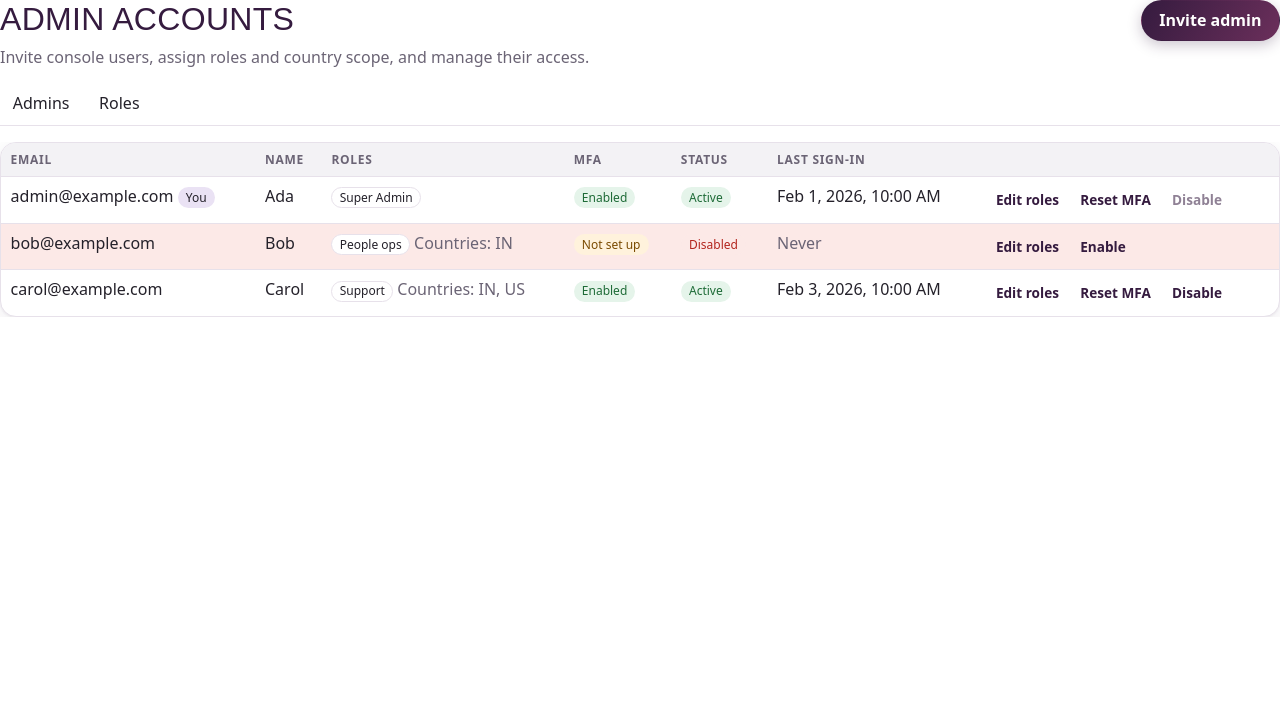
Test case: AdminsPage › warns when editing your own roles
The image size is (1280, 720).
Click the button "Edit roles" in the row of "admin@example.com": (1027, 200) [985,185,1070,215]
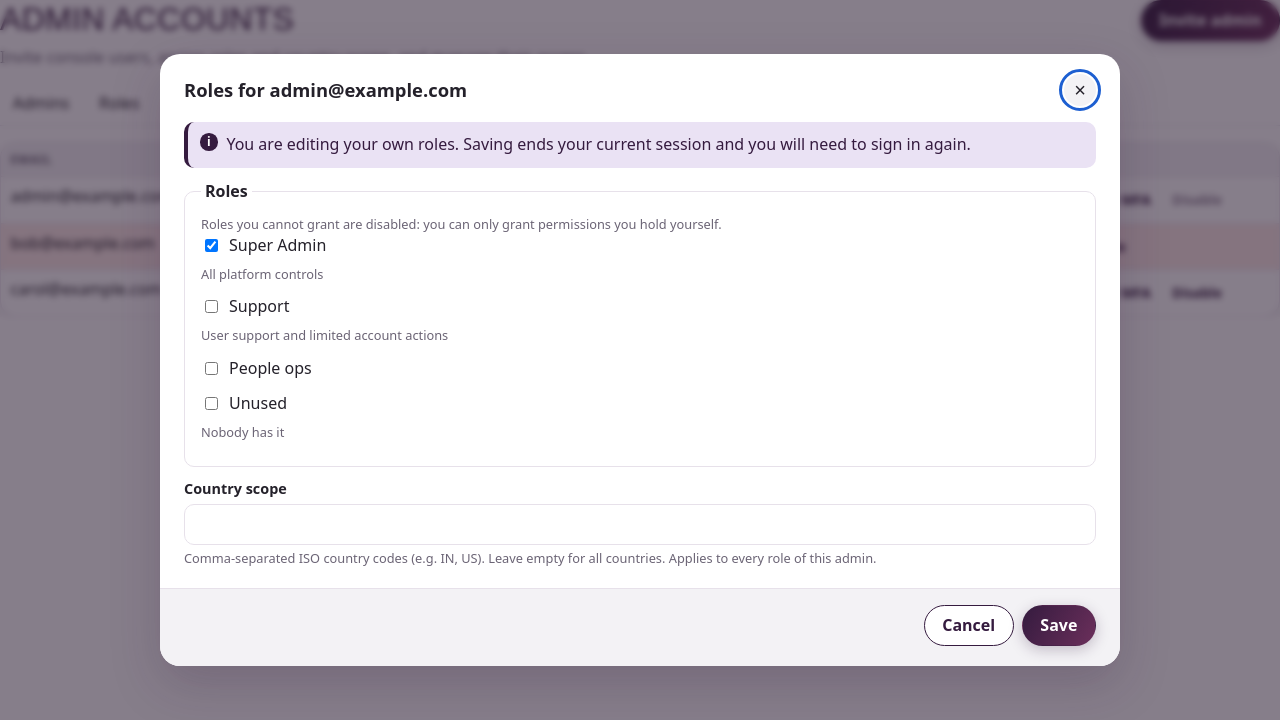
Expected: the text "You are editing your own roles. Saving ends your current session and you will need to sign in again." is shown, [226,133,971,155]
